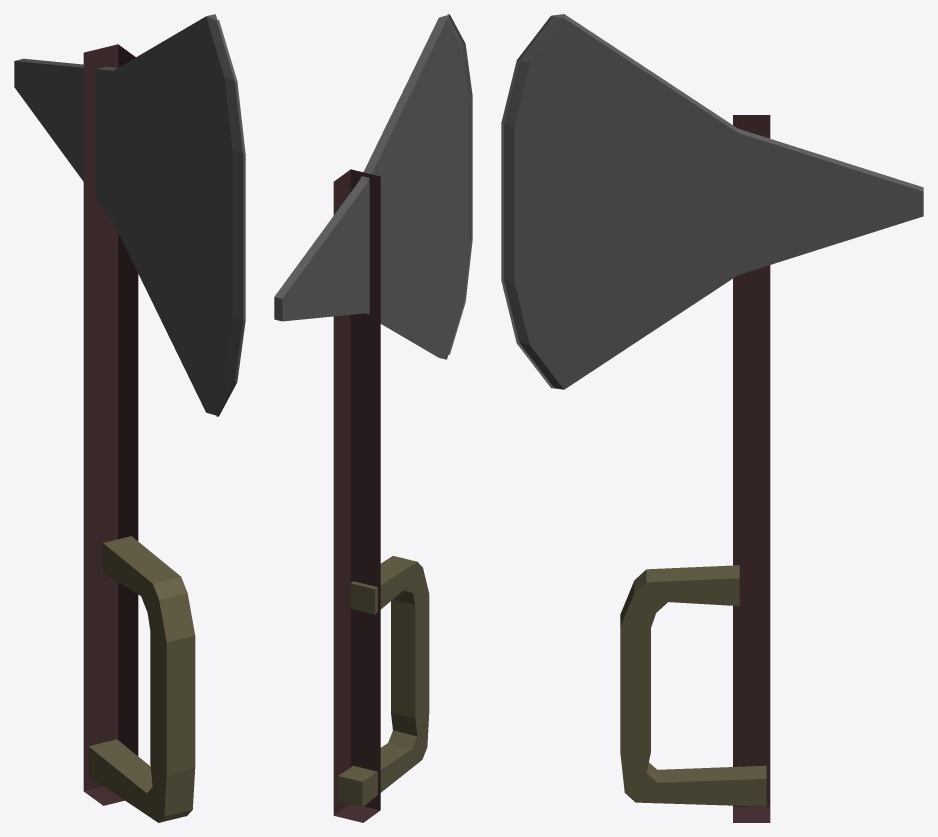
File: SimpleAxe.fbx
3 renders of one model, left to right at view 1: azimuth 30°, elevation 25°; view 2: azimuth 150°, elevation 25°; view 3: azimuth 270°, elevation 25°, orthographic. The views are drawn at different scales.
Visible parts, largest first — view 1: Blade, Handle, Guard; view 2: Blade, Handle, Guard; view 3: Blade, Handle, Guard.
Boxes of the visible parts, <box> form: Blade: <box>14,14,245,416</box>; Handle: <box>83,44,138,805</box>; Guard: <box>88,536,195,822</box>; Blade: <box>274,14,472,359</box>; Handle: <box>333,169,380,822</box>; Guard: <box>338,556,429,807</box>; Blade: <box>501,14,923,389</box>; Handle: <box>733,115,770,822</box>; Guard: <box>620,565,766,806</box>.
Bounding box in the file's own units: 94.21 × 2214 × 1061.
